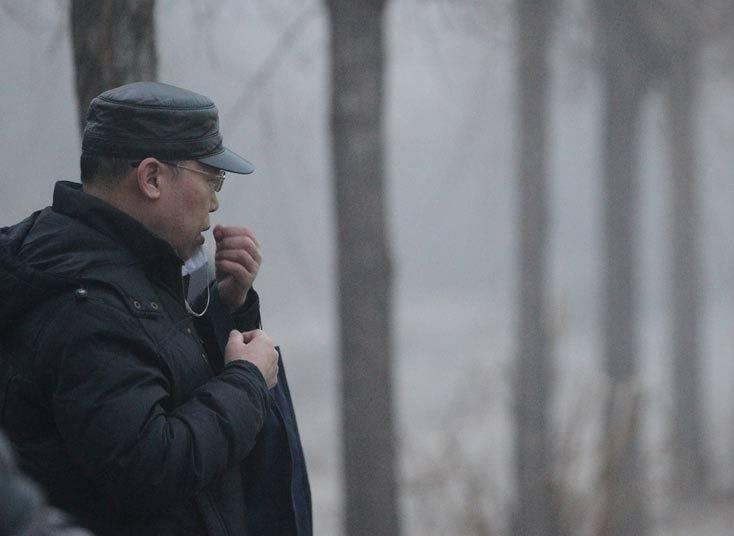person: (1, 78, 316, 536)
